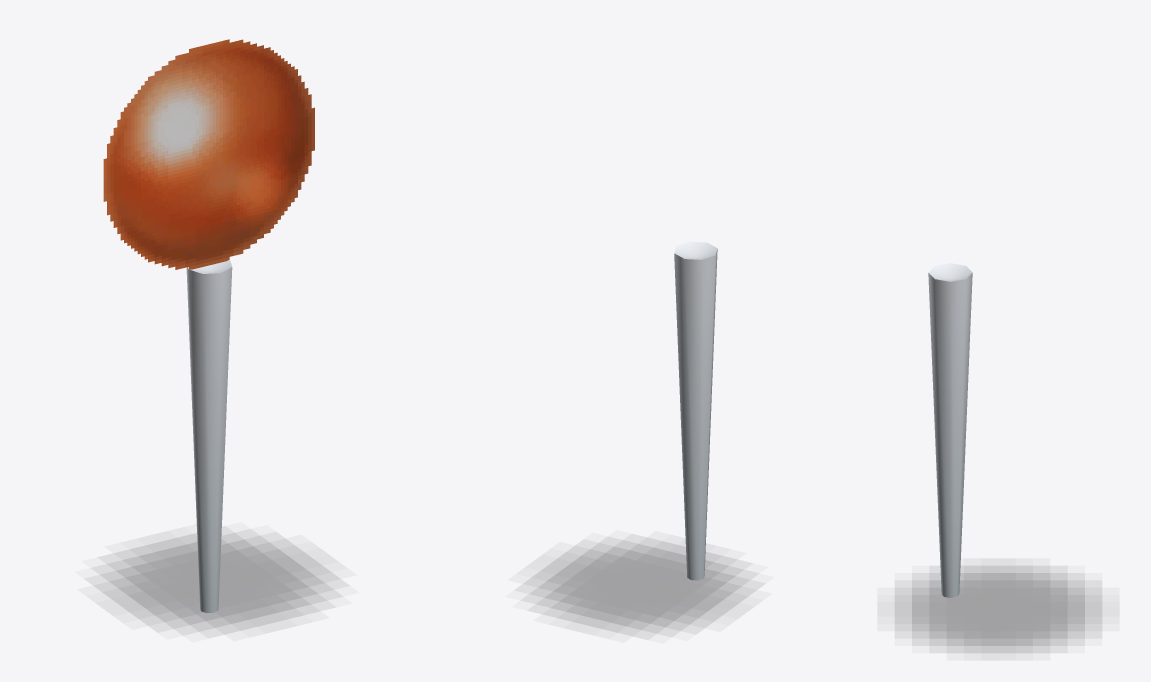
File: glf_matoPIN__glf_matoPIN.glb
3 renders of one model, left to right at view 1: azimuth 30°, elevation 25°; view 2: azimuth 150°, elevation 25°; view 3: azimuth 270°, elevation 25°, orthographic. The views are drawn at different scales.
Visible parts, largest first — view 1: polygon2, polygon0, polygon1; view 2: polygon0, polygon1; view 3: polygon0, polygon1.
Part boxes in pixels (x1=…): polygon2: x1=103, y1=39, x2=314, y2=269; polygon0: x1=101, y1=533, x2=333, y2=631; polygon1: x1=186, y1=259, x2=232, y2=612; polygon0: x1=530, y1=540, x2=749, y2=633; polygon1: x1=674, y1=241, x2=717, y2=580; polygon0: x1=895, y1=566, x2=1101, y2=652; polygon1: x1=928, y1=263, x2=972, y2=597.
Bounding box in the file's own units: 12.17 × 24.4 × 11.54.
3 materials, 2 textured.
